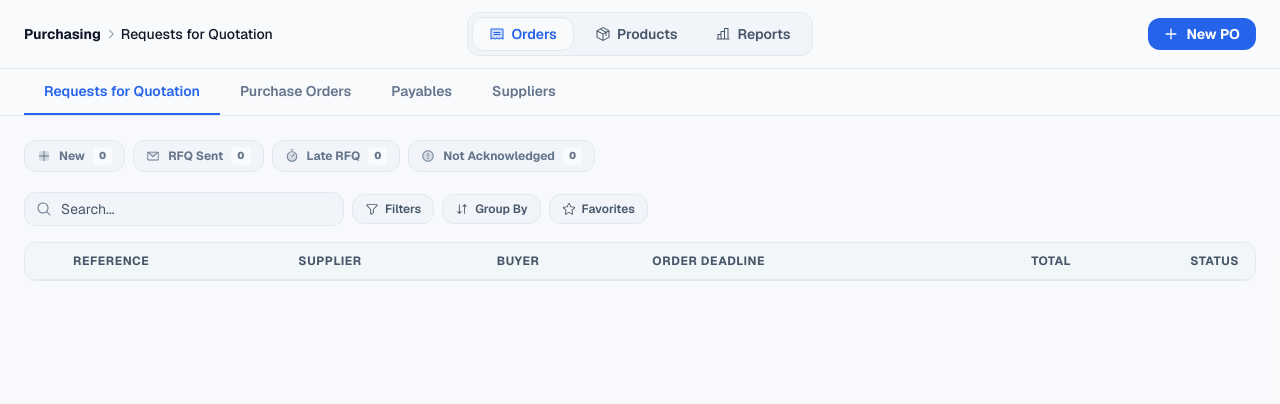
Test: Purchasing products: search, status filter and empty state › says when search and filters hide everything, and Clear filters brings products back
Click the button "Products": click(636, 34) x1=578 y1=17 x2=694 y2=51
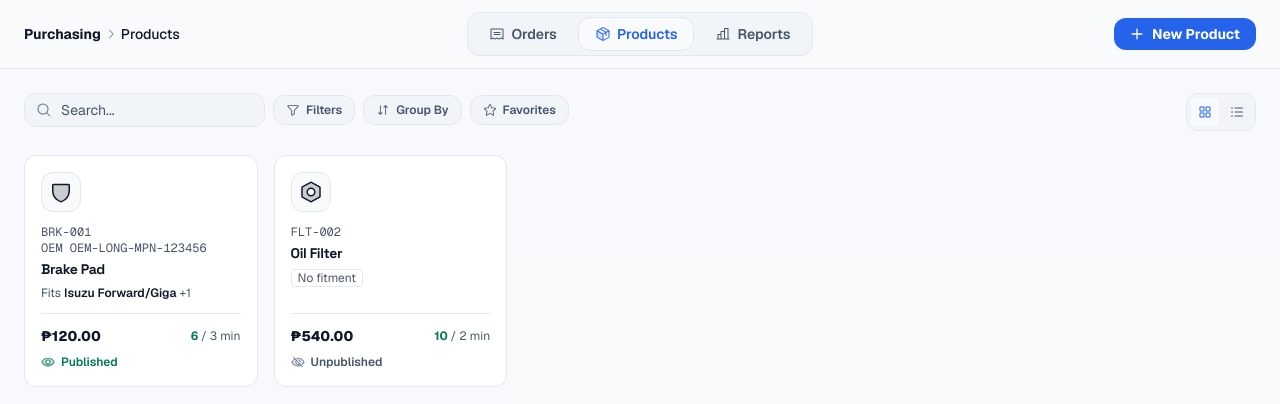
Click the button "Filters": click(314, 110) x1=273 y1=95 x2=355 y2=125
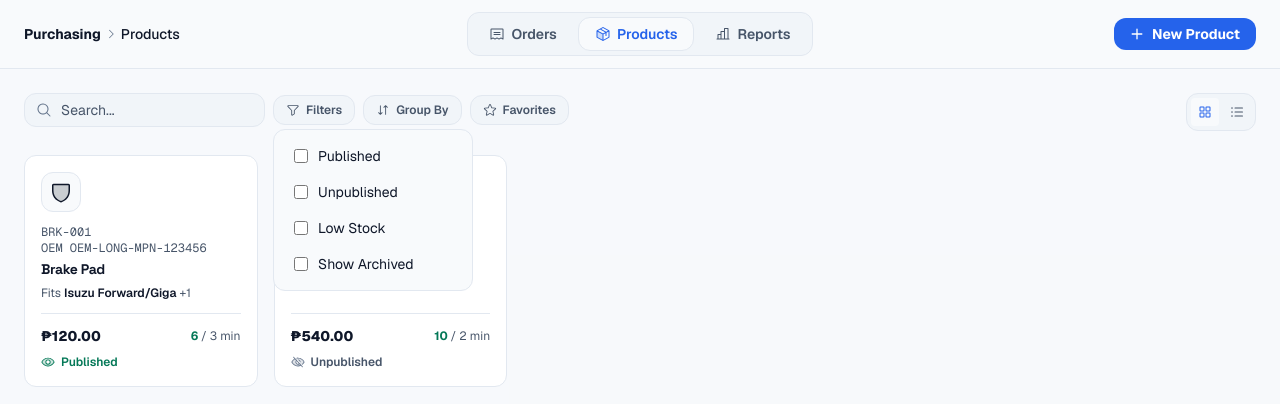
Click the checkbox labelled "Low Stock": click(301, 228) x1=294 y1=221 x2=308 y2=235
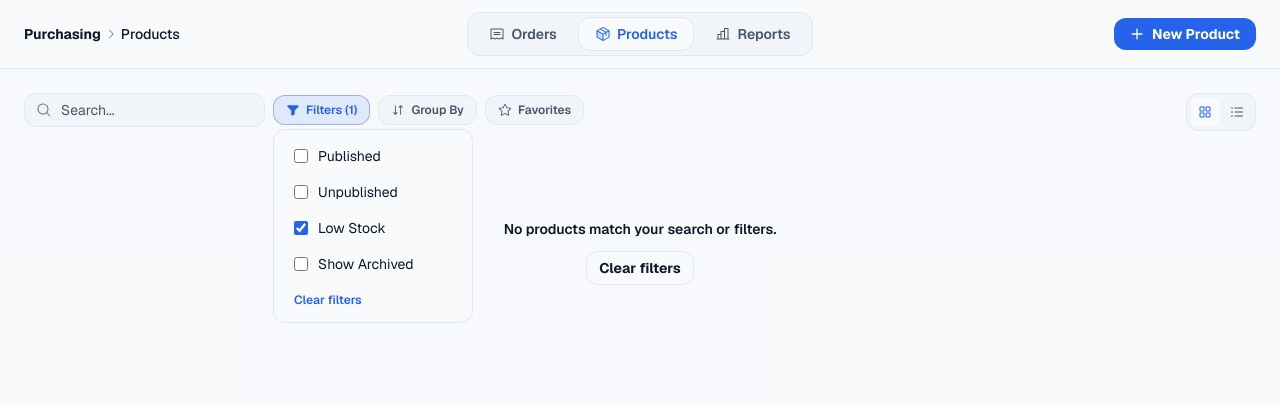
In the field named "Search products": (144, 110) x1=24 y1=93 x2=265 y2=127, type "zzz-no-match"
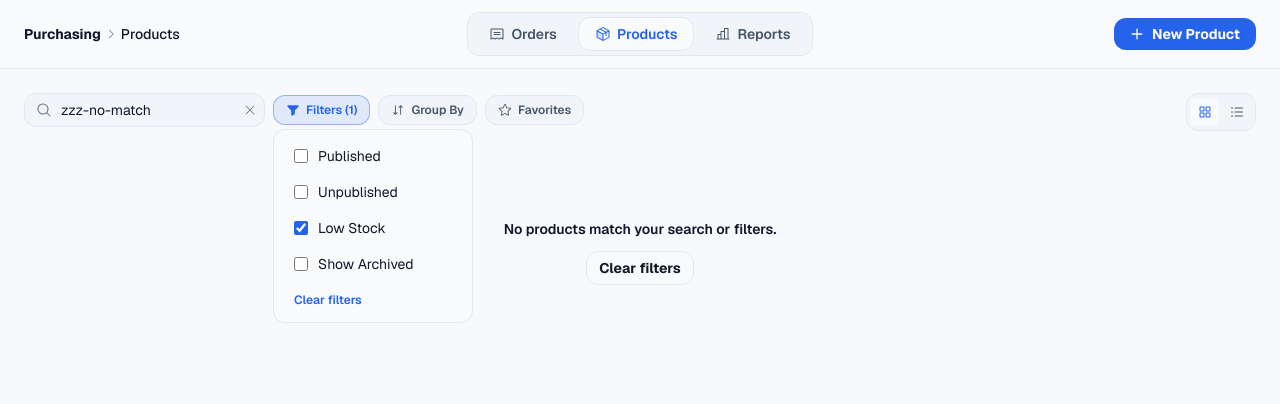
Result: the message shows "No products match your search or filters." at x1=504 y1=220 x2=776 y2=238
Click the 1st button "Clear filters": click(640, 268) x1=586 y1=251 x2=694 y2=285
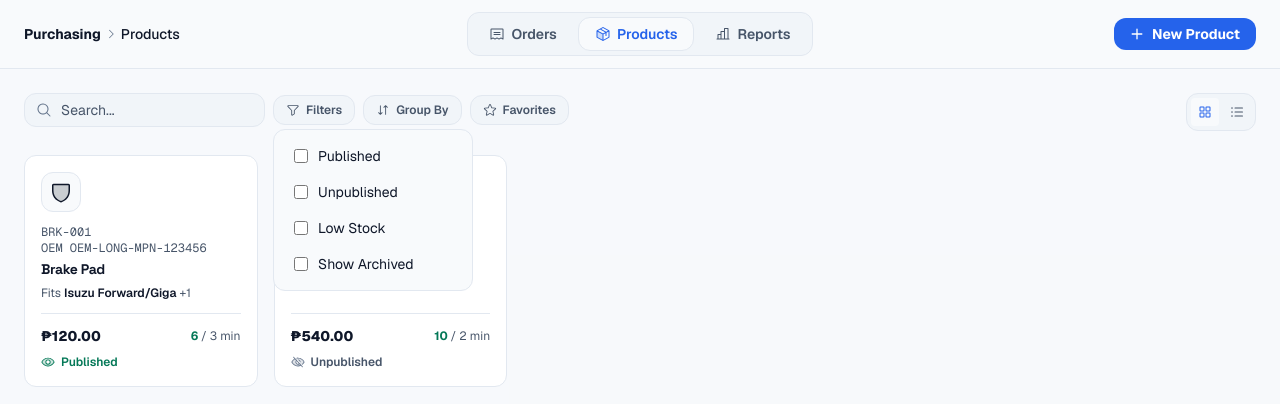
Result: the button "Brake Pad" is shown at x1=24 y1=155 x2=258 y2=387
Result: the button "Oil Filter" is shown at x1=274 y1=155 x2=507 y2=387
Result: the field named "Search products" is empty at x1=24 y1=93 x2=265 y2=127
